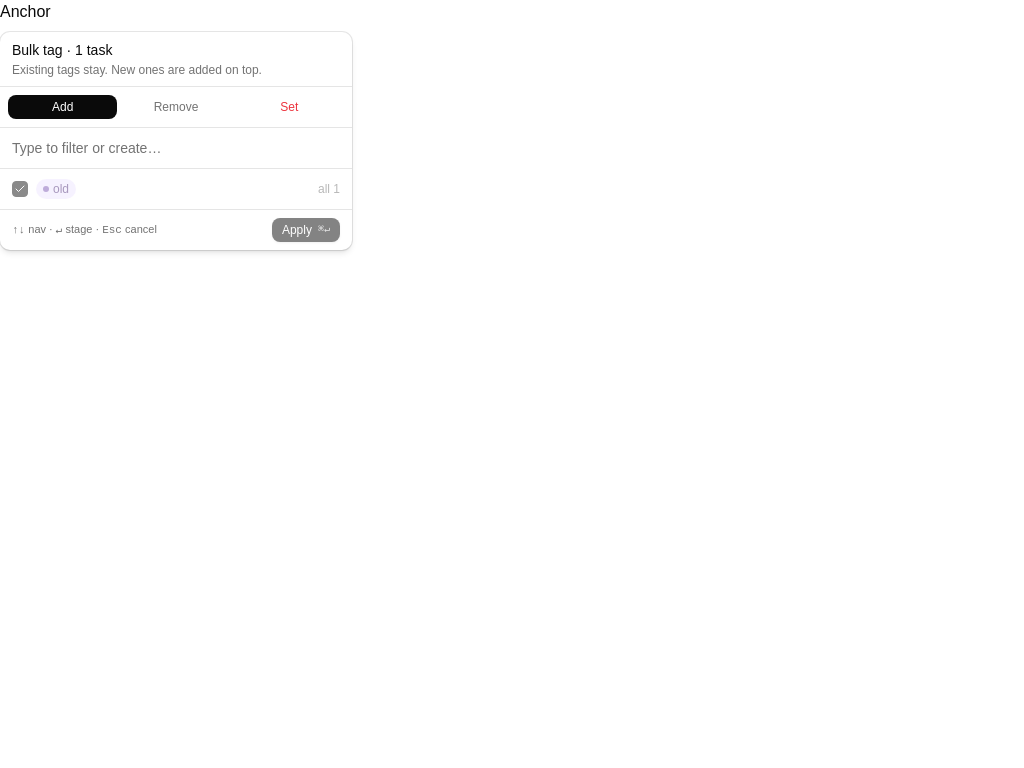
Scenario: <BulkTagEditor> › Set mode requires the confirm checkbox before Apply enables
Click the tab "Set" at (289, 107), box top-left (235, 95), bottom-right (344, 119)
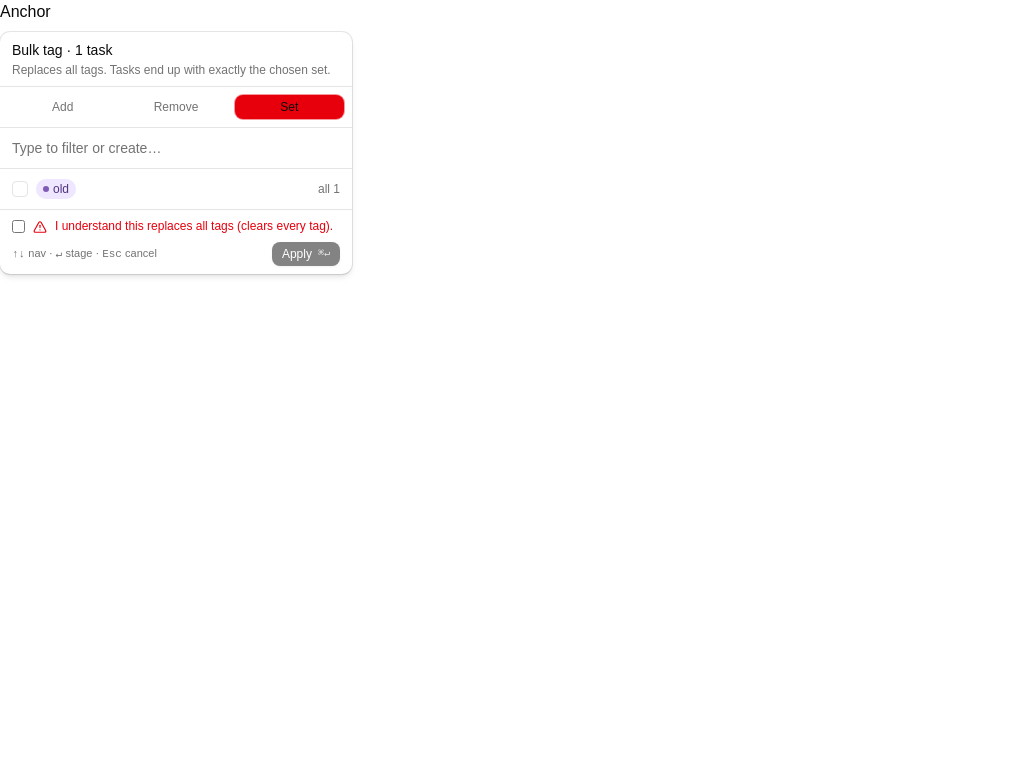
Expected: the button "Apply ⌘↵" is disabled, top-left (272, 242), bottom-right (340, 266)
Result: the checkbox labelled "I understand this replaces all tags (clears every tag)." is shown
Click the checkbox labelled "I understand this replaces all tags (clears every tag)." at (18, 226), box top-left (12, 220), bottom-right (25, 233)
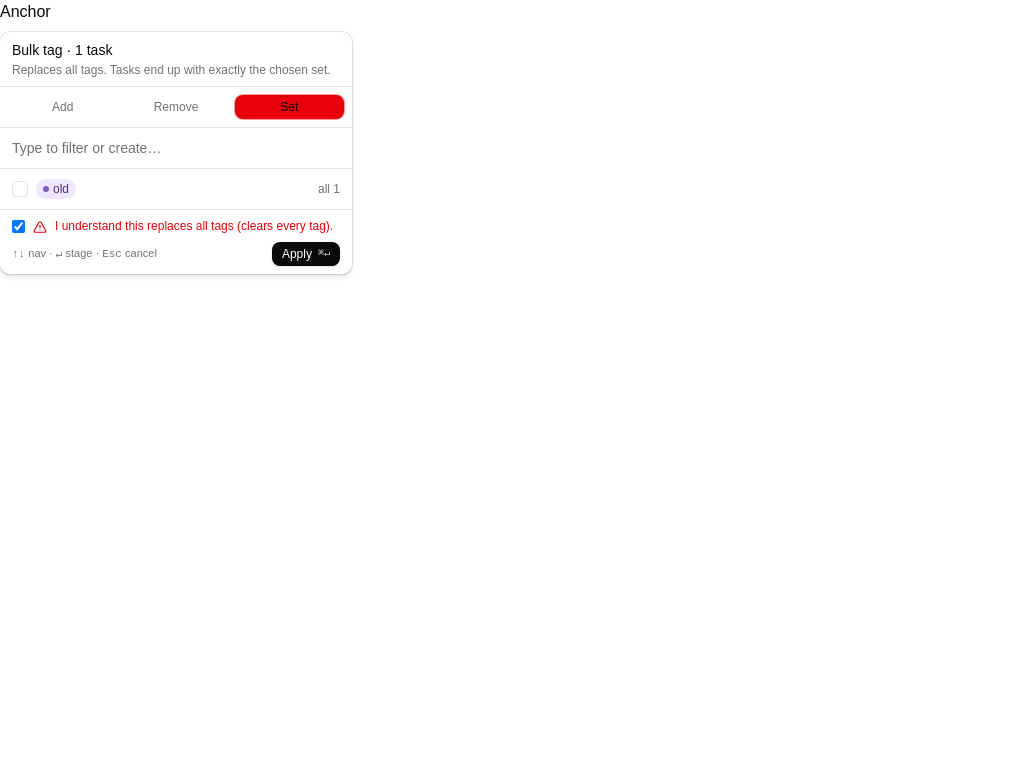
Result: the button "Apply ⌘↵" is enabled at top-left (272, 242), bottom-right (340, 266)
